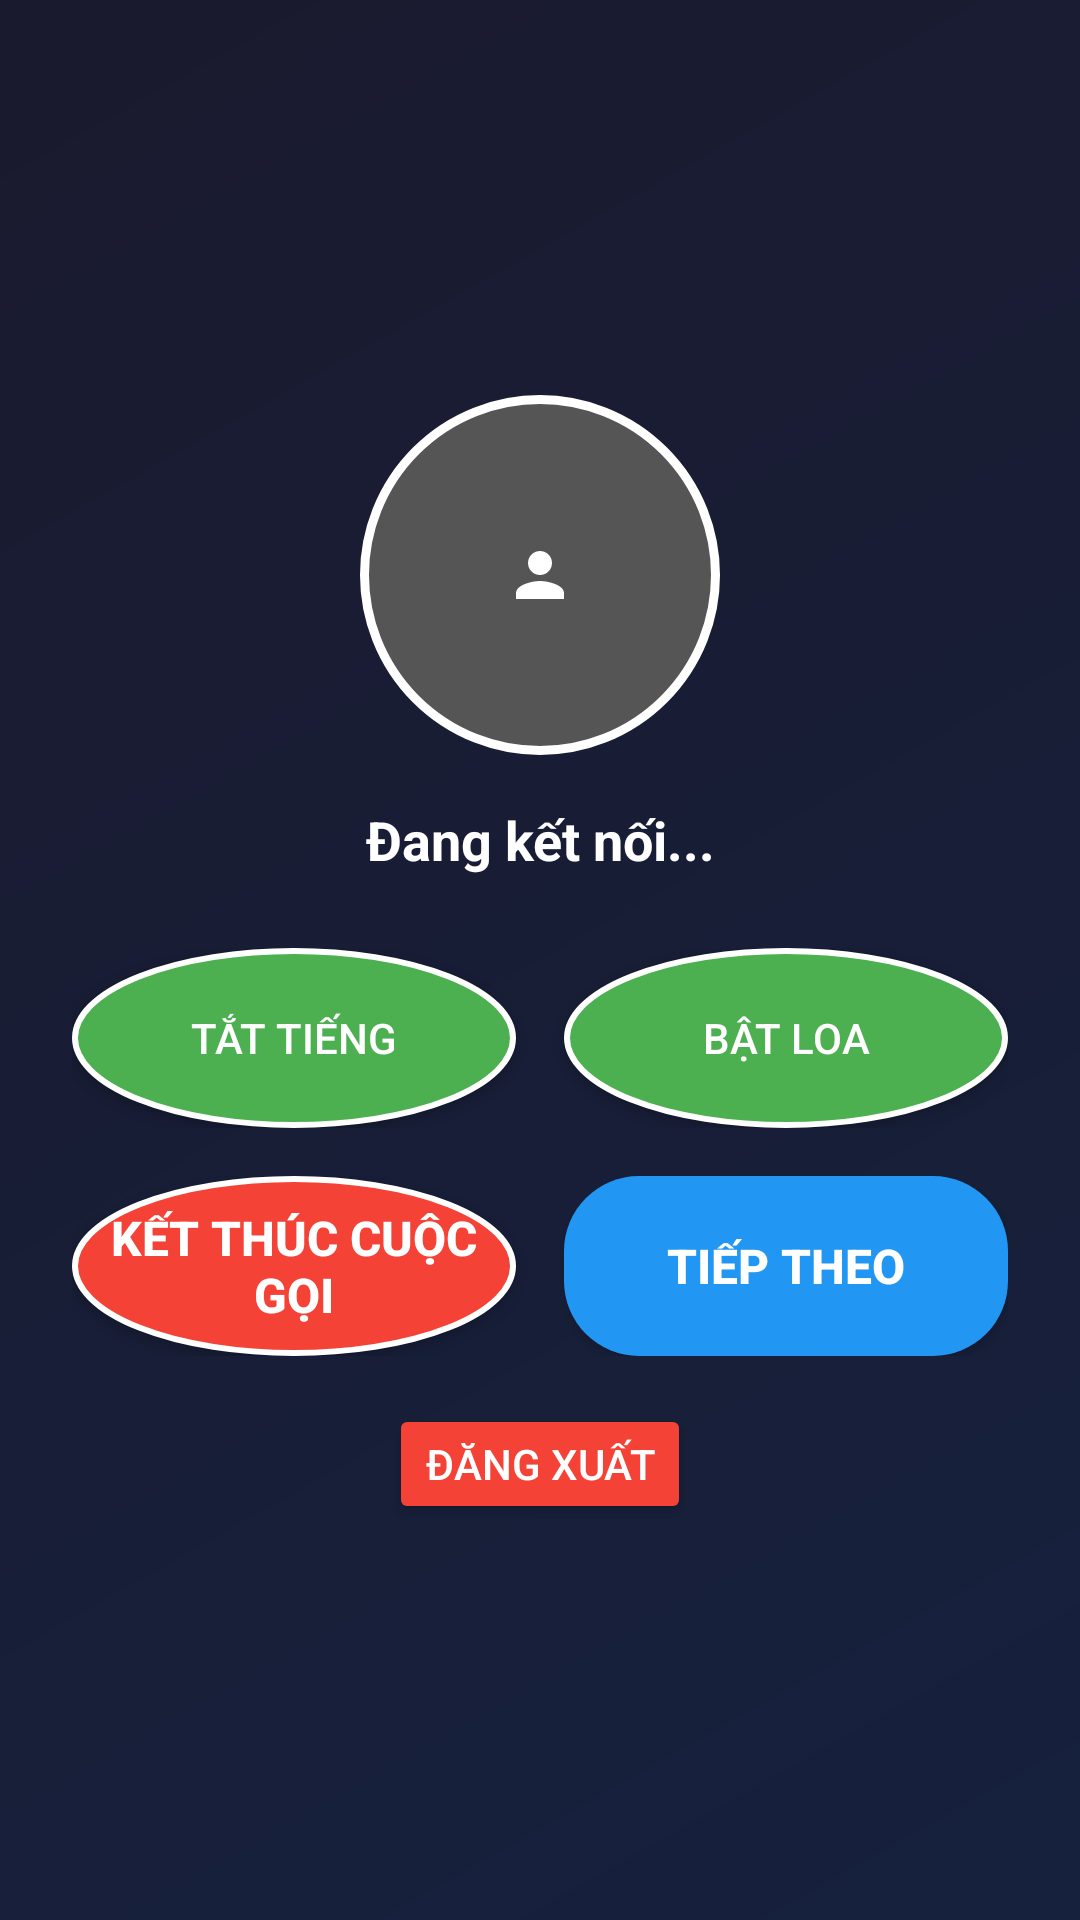

Screen size 1080px×1920px. Icon name, then its box in pixels as (x1, y1, x2, y2):
Avatar: (360, 395, 720, 755)
